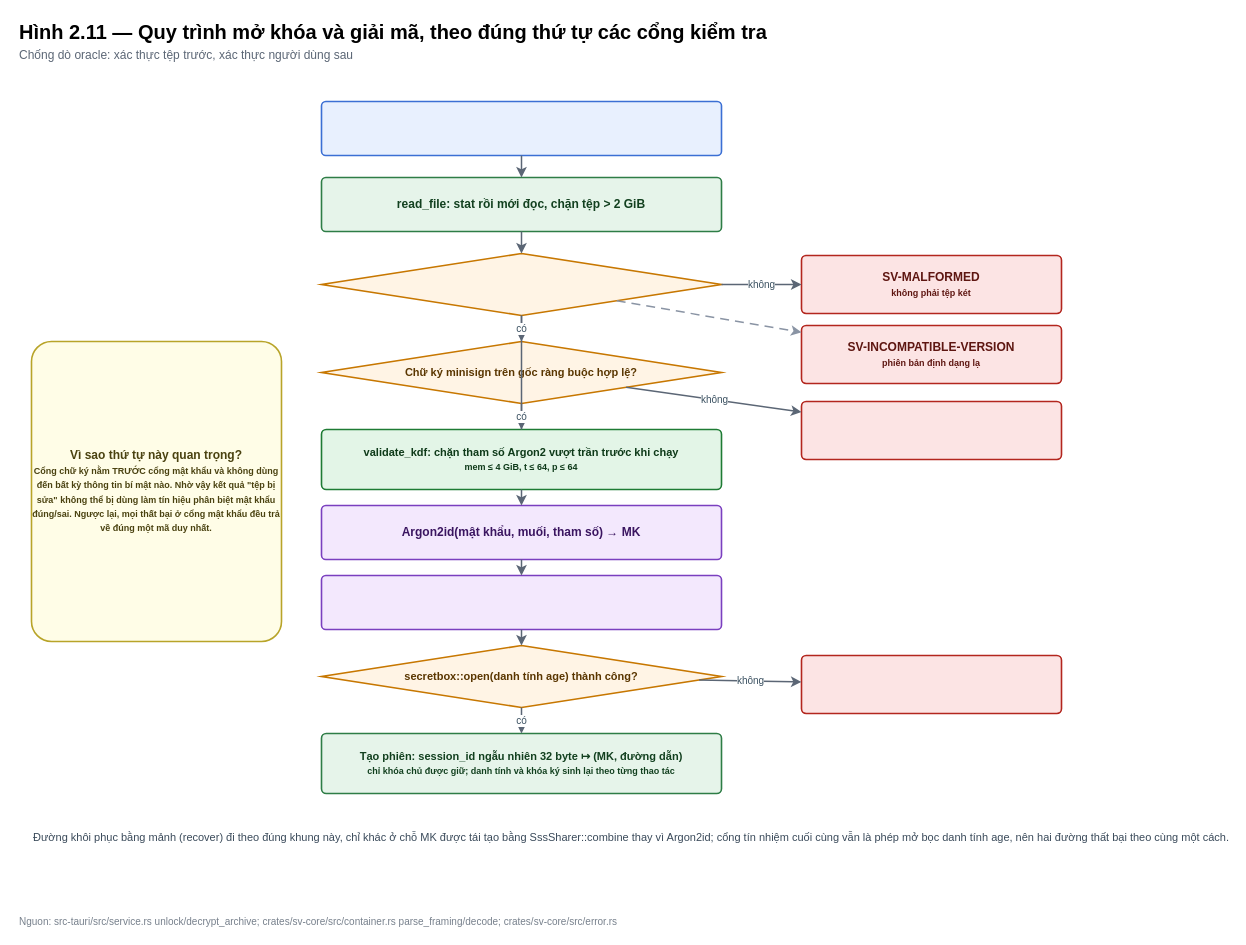
Image size: 1246x945. Some labels were removed from this diagram. Here are the shapes that lost their labels. From the top down, the centre of each, then its label:
(x=521, y=128): Người dùng chọn tệp két và nhập mật khẩu
(x=521, y=284): Đúng MAGIC "SVLT" và FORMAT_VERSION = 1?
(x=931, y=430): SV-CORRUPTED tệp hỏng hoặc bị sửa đổi
(x=521, y=602): derive_wrap_key(MK, age-identity, uuid)
(x=931, y=684): SV-UNAUTHORIZED sai mật khẩu HOẶC sai mảnh khôi phục — hợp nhất một mã
